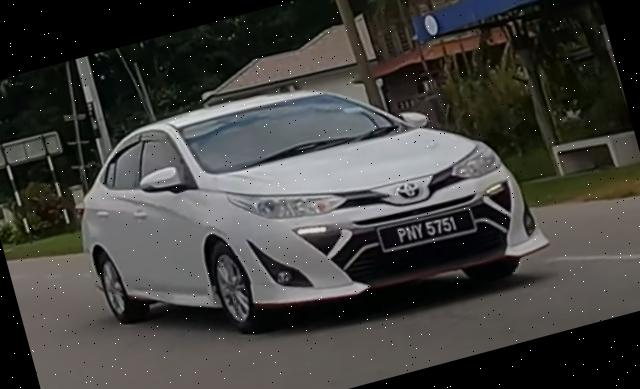License_Plate: (374, 202, 479, 259)
car: (56, 28, 557, 382)
